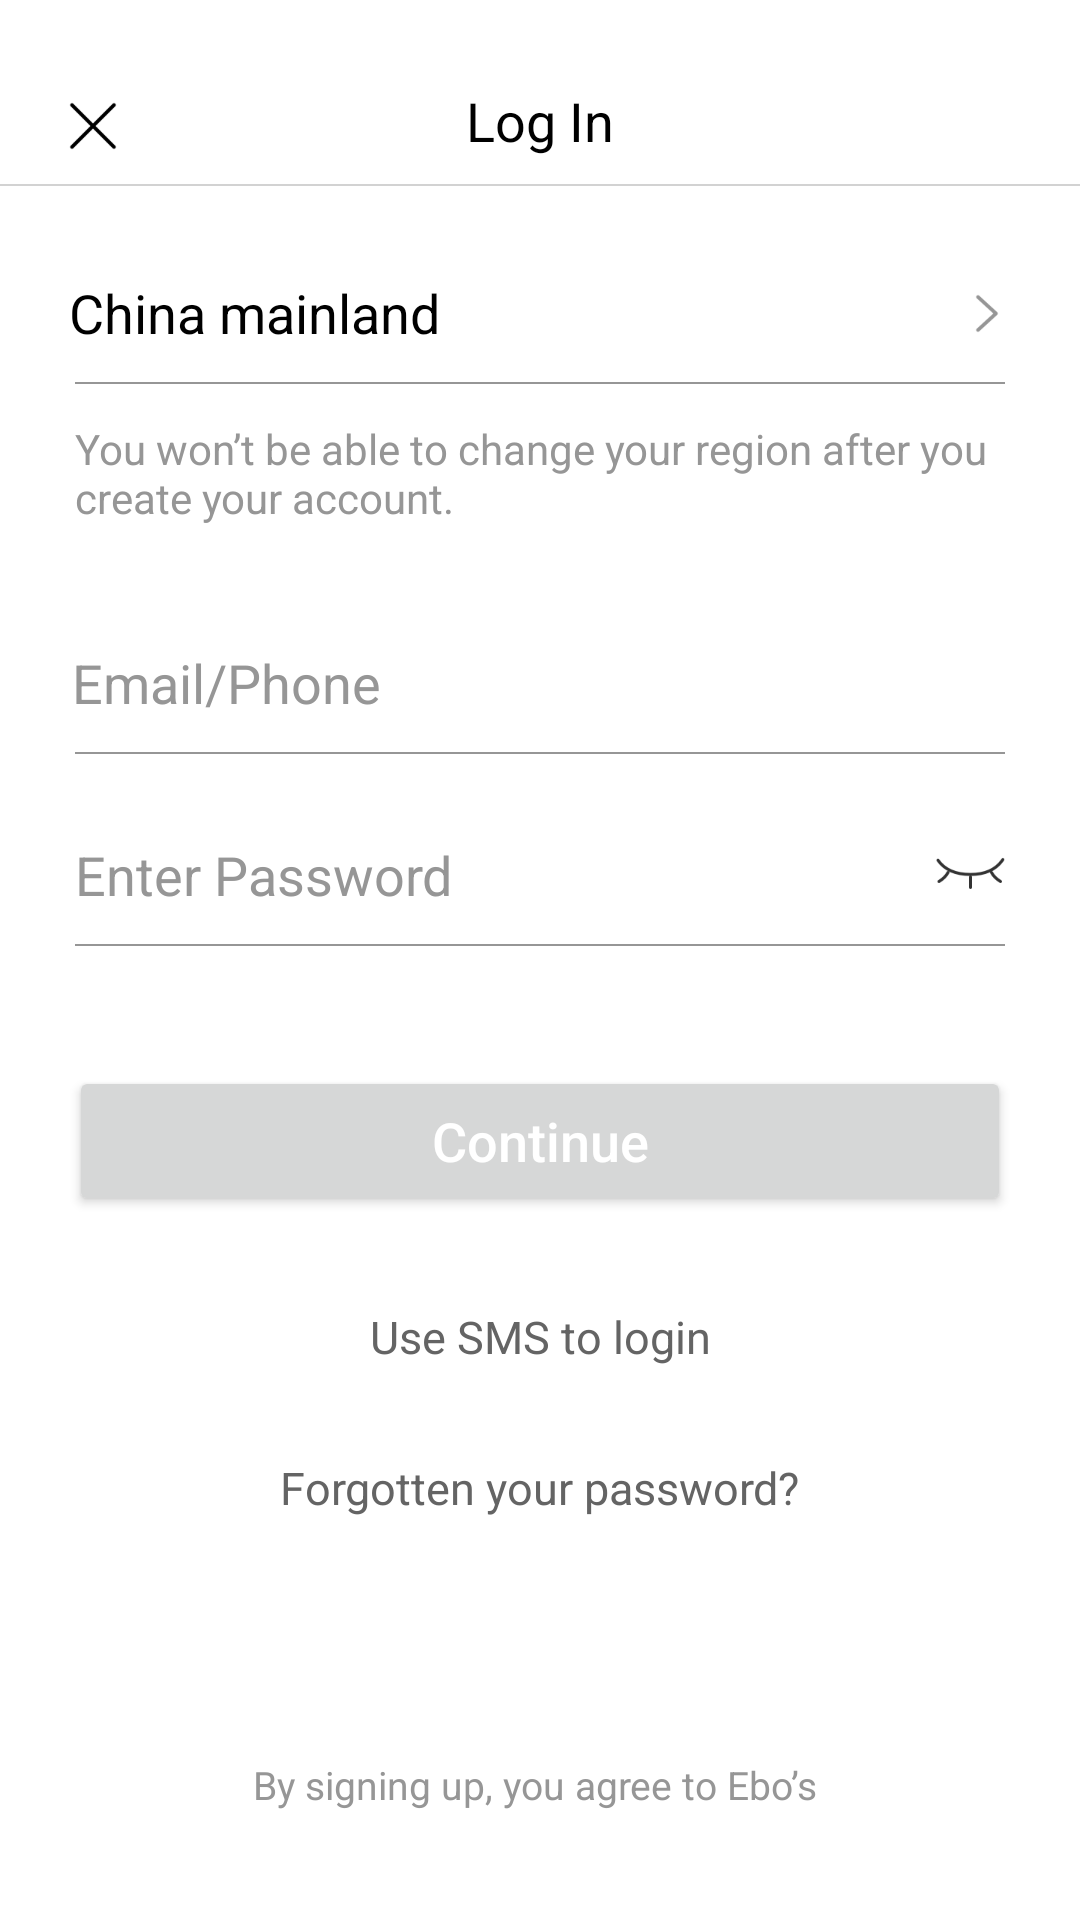

Named icons in this screenshot (1080x1920) and their bounding boxes, (x1, y1, x2, y2):
arrow right: (976, 295, 998, 332)
close: (70, 103, 116, 149)
pwd unsee: (936, 858, 1005, 889)
